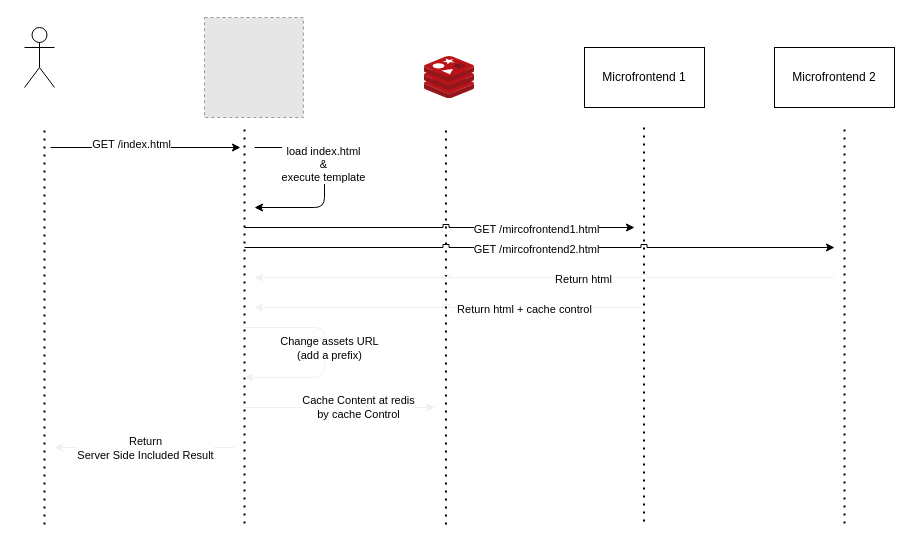
Image size: 912x544. Some labels were removed from this diagram. Grey dashed boxes stand in for pictures. The centre of each missing label's shape, as x and y in pixels:
Browser: point 39,57
Redis Cache: point 449,77
